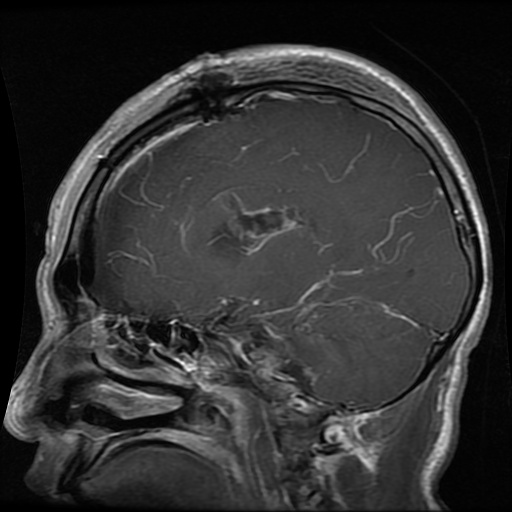glioma: (206, 194, 309, 257)
